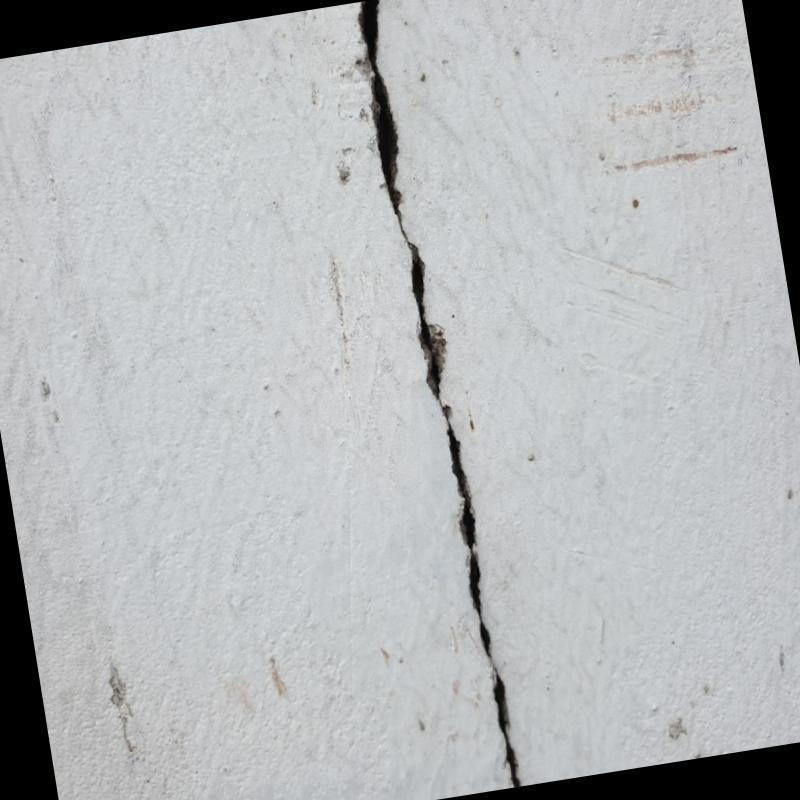crack: (349, 4, 525, 781)
